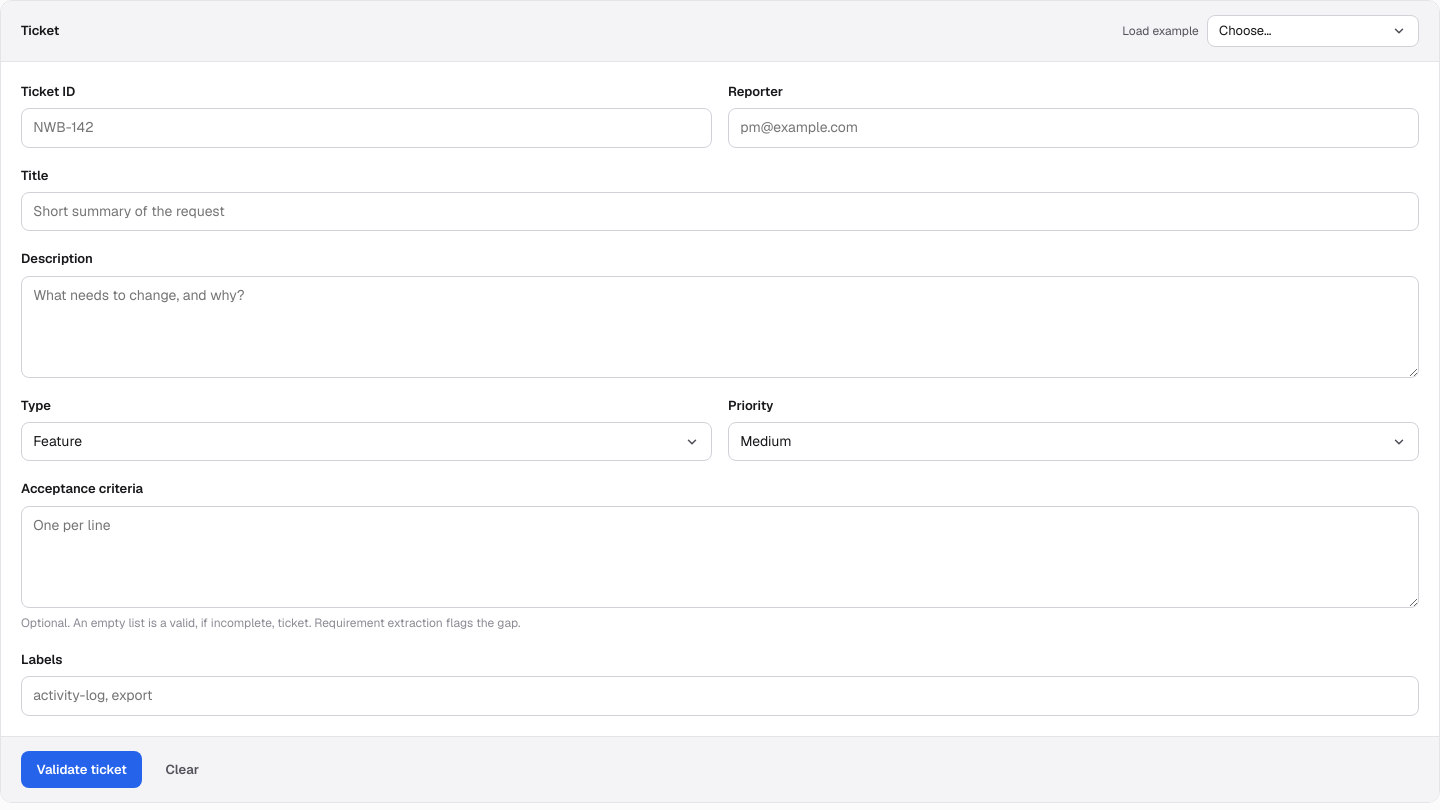
Test: TicketIntakeForm › clears the form and result when Clear is clicked
Click the button "Validate ticket".
click(82, 770)  # box [21,751,142,788]
(page scrolled)
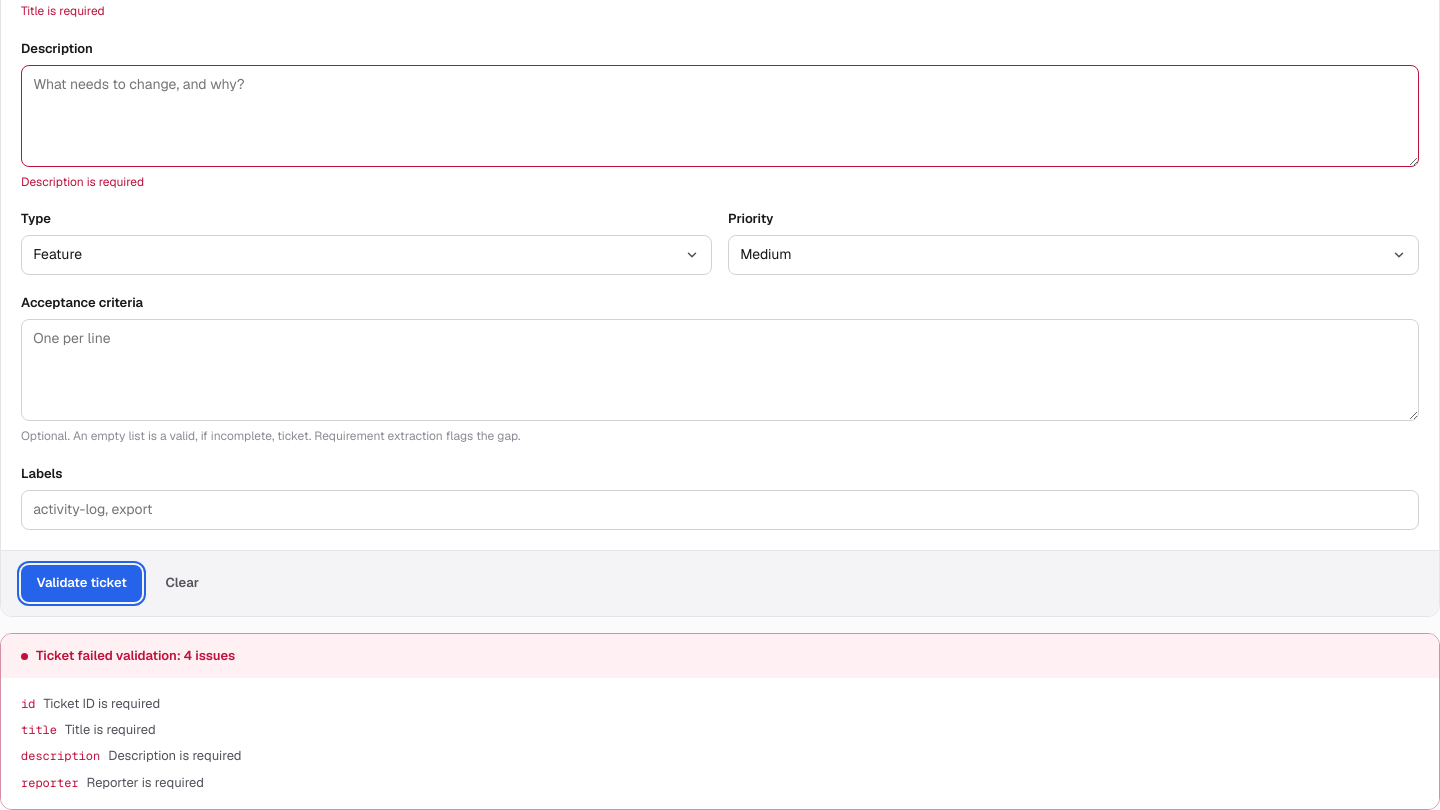
Expected: the message is shown, [0,633,1439,809]
Click the button "Clear".
click(182, 583)  # box [150,565,214,602]
(page scrolled)
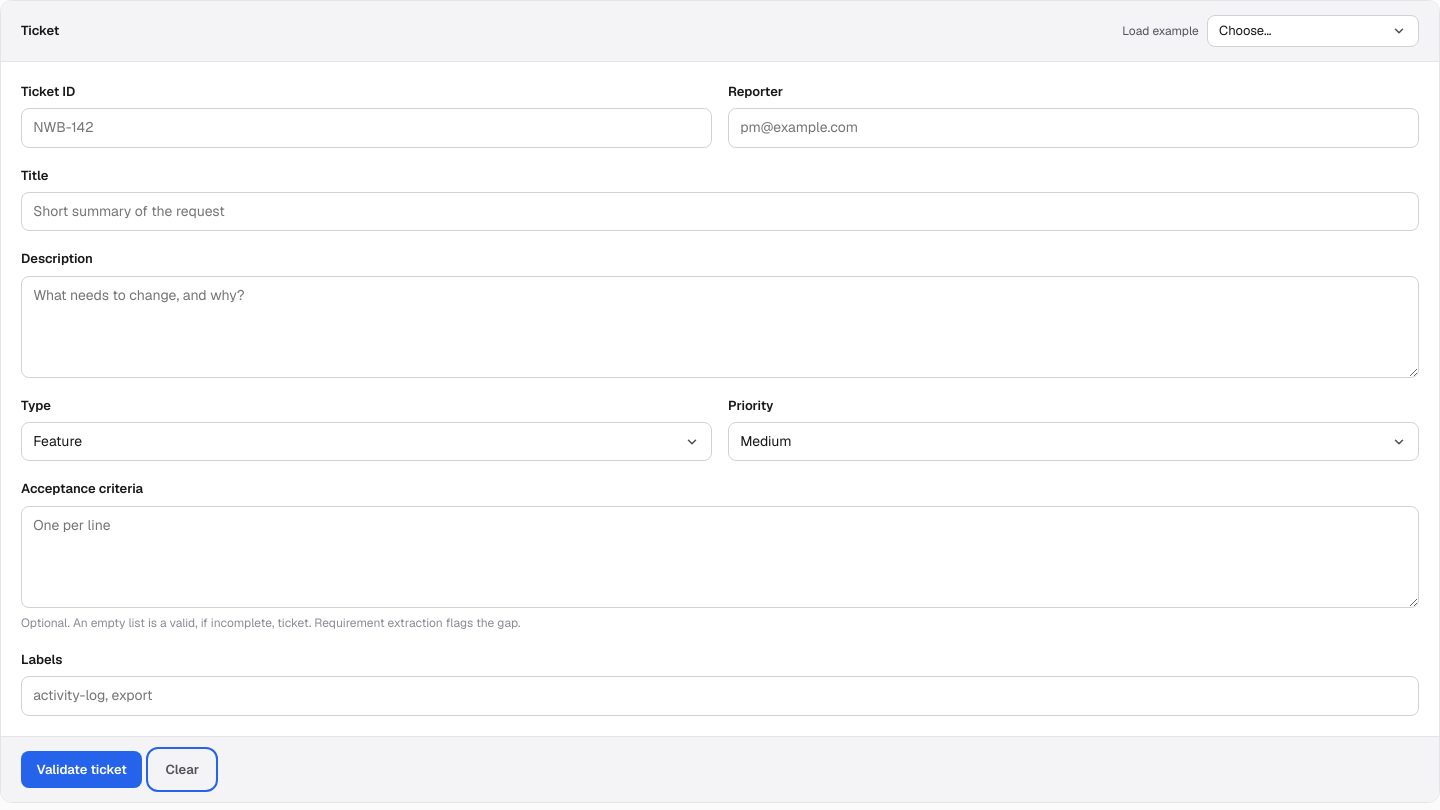
Expected: the field labelled "Title" is empty, [21,192,1419,231]
Expected: the message is gone
